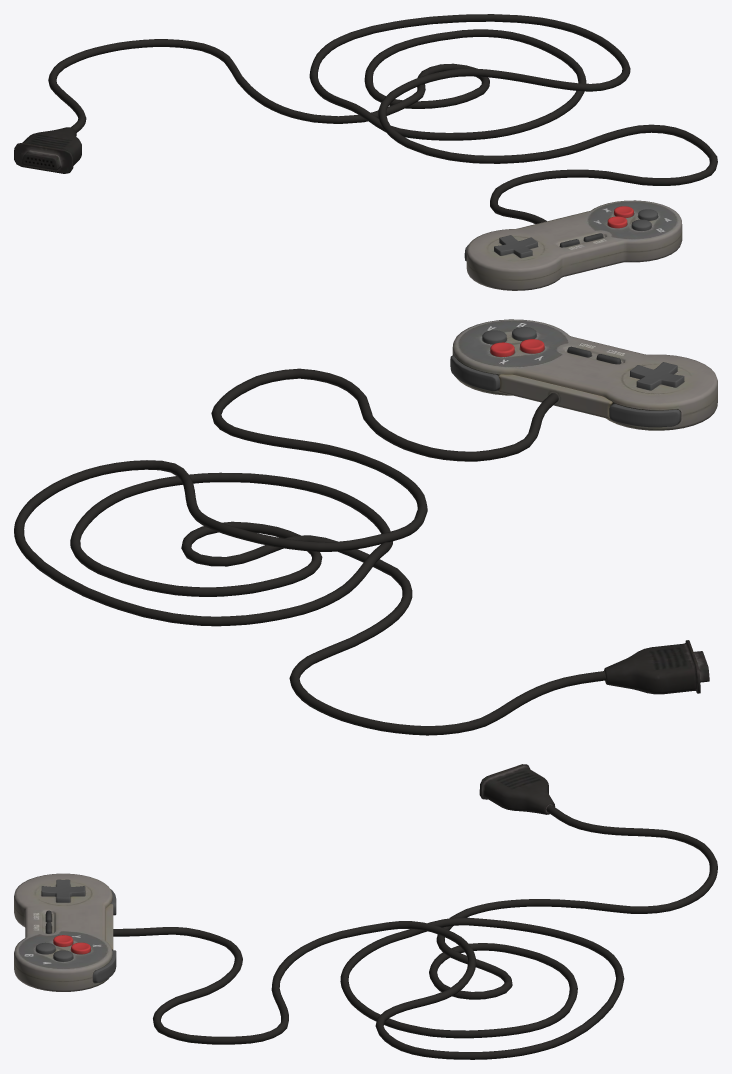
Rendered from gamepad.glb.
3 renders of one model, top to bottom at view 1: azimuth 30°, elevation 25°; view 2: azimuth 150°, elevation 25°; view 3: azimuth 270°, elevation 25°, orthographic. The views are drawn at different scales.
Visible parts, largest first — view 1: gamepad; view 2: gamepad; view 3: gamepad.
Part boxes in pixels (box(x1,y1,x2,y2)): gamepad: box(14, 14, 717, 290); gamepad: box(14, 319, 717, 735); gamepad: box(14, 764, 717, 1059).
Bounding box in the file's own units: 0.4041 × 0.0189 × 0.435.
Materials: 1 (1 with a texture image).
